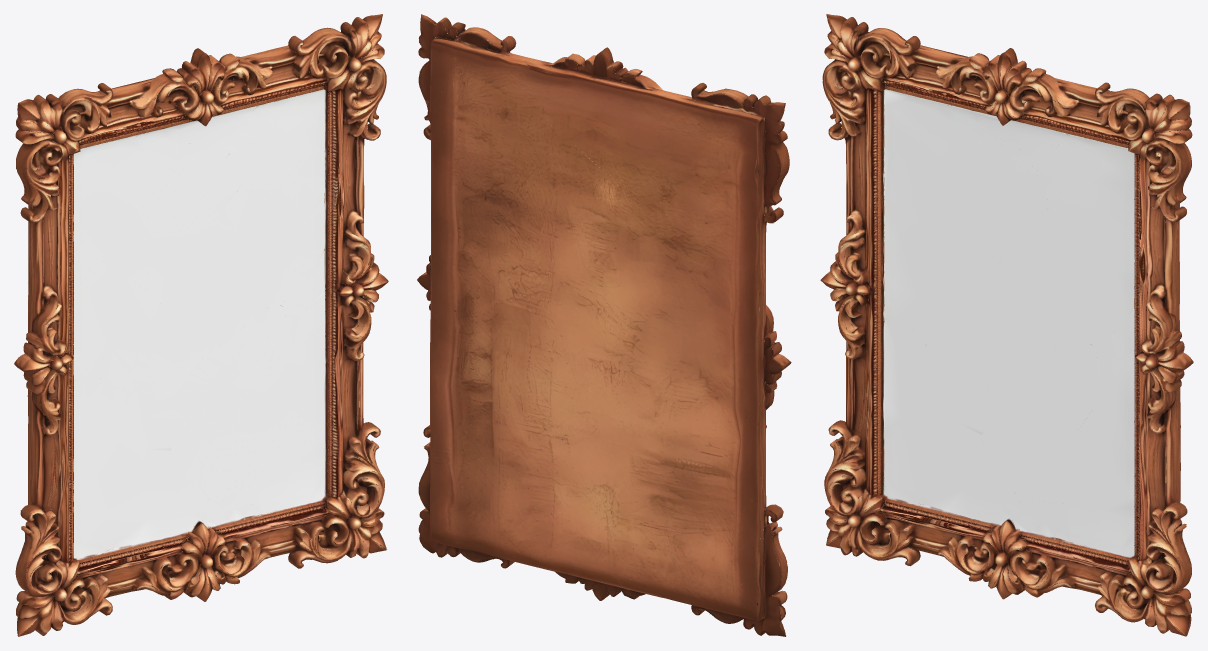
Rendered from bingkai.glb.
3 renders of one model, left to right at view 1: azimuth 30°, elevation 25°; view 2: azimuth 150°, elevation 25°; view 3: azimuth 330°, elevation 25°, orthographic.
Visible parts, largest first — view 1: model; view 2: model; view 3: model.
Part boxes in pixels (x1,y1,x2,y2): model: (14,14,388,636); model: (417,14,791,636); model: (820,14,1193,636).
Bounding box in the file's own units: 1.33 × 1.9 × 0.1339.
1 material, 1 textured.
